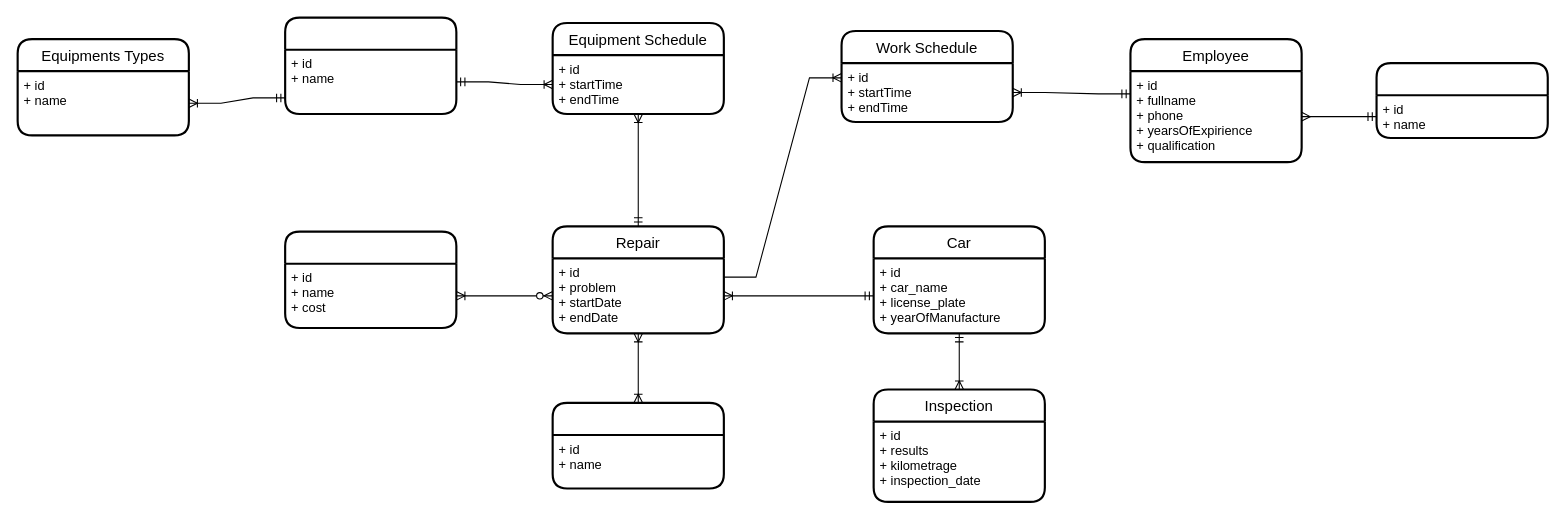
The diagram is 1565 pixels wide and 519 high, and some of its shapes have lost their labels. The shapes that lost their labels are listed below. From the top down, each one's box as (x1, y1, x2, y2) in pixels, then its label:
(284, 16, 457, 114): Equipment
(1375, 62, 1548, 139): Profession
(284, 230, 457, 328): Detail
(551, 401, 724, 489): Service
